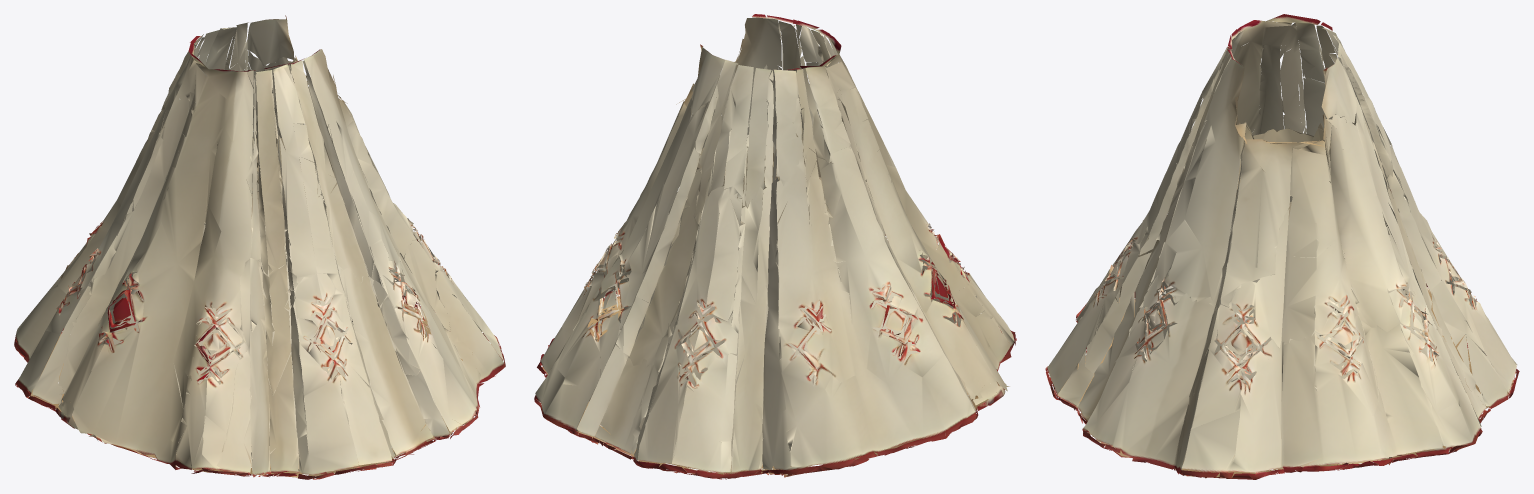
The model's file is falda_mujer.obj.
The picture shows the model from 3 angles, left to right: view 1: azimuth 30°, elevation 25°; view 2: azimuth 150°, elevation 25°; view 3: azimuth 270°, elevation 25°; orthographic projection.
Parts seen in each view (by area): view 1: model; view 2: model; view 3: model.
Part boxes in pixels (x1=…): model: x1=14, y1=15, x2=505, y2=479; model: x1=534, y1=14, x2=1016, y2=479; model: x1=1045, y1=14, x2=1519, y2=479.
Size of the model in its own units: 0.7889 by 0.6325 by 0.7548.
1 material, 1 textured.
